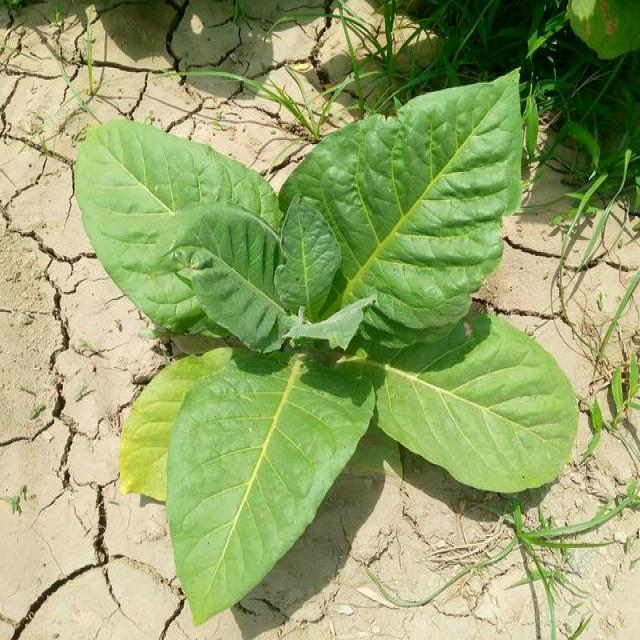crop: (80, 107, 580, 604)
